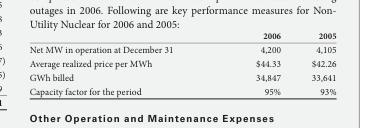table: (28, 29, 335, 97)
table column: (28, 29, 213, 97), (213, 29, 295, 97), (295, 29, 335, 97)
table column header: (28, 29, 335, 41)
table row: (28, 41, 335, 55), (28, 55, 335, 69), (28, 69, 335, 83), (28, 83, 335, 97), (28, 29, 335, 41)
